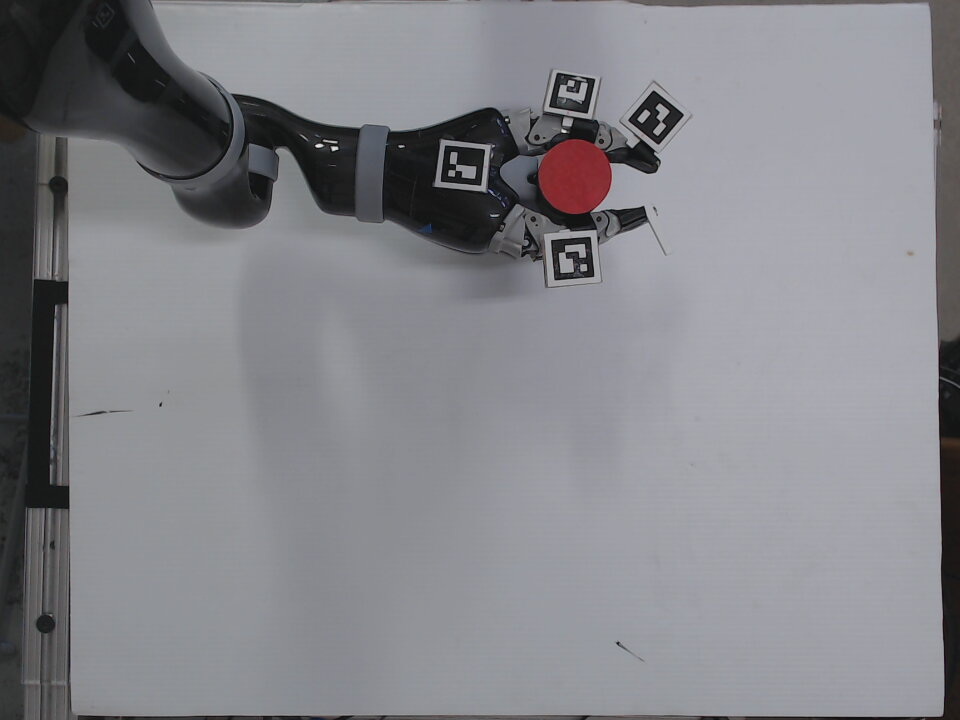cylinder: (533, 135, 616, 219)
